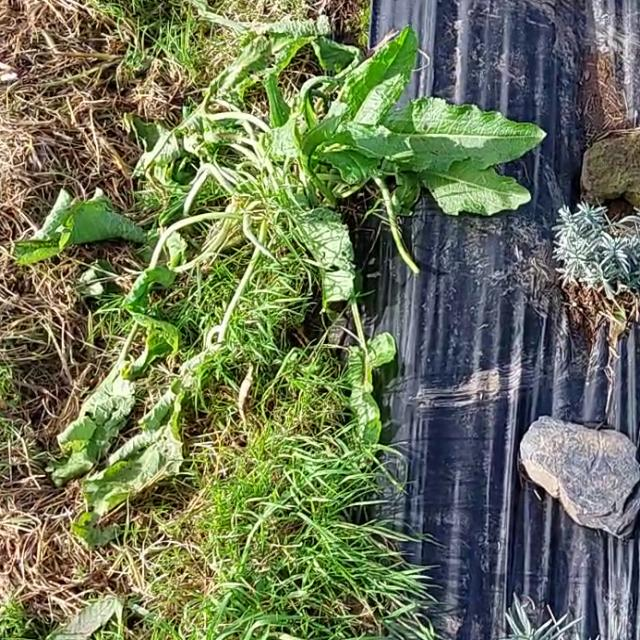organic waste: (0, 165, 266, 513), (199, 0, 570, 239), (252, 184, 419, 442)
